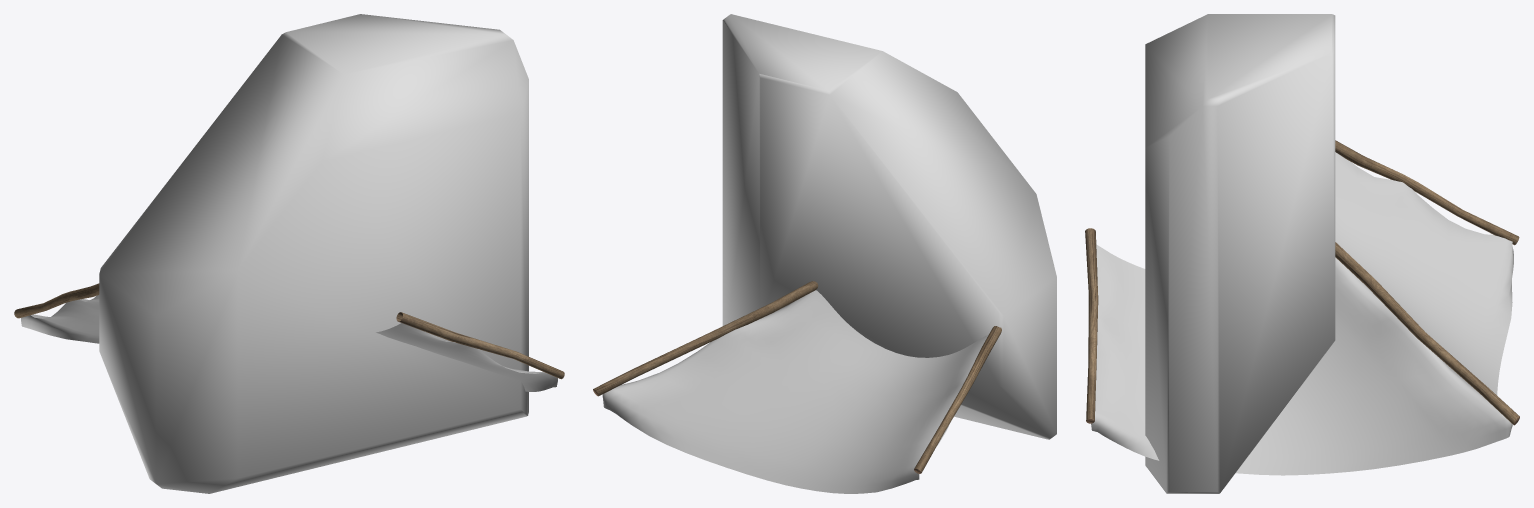
File: SM_Canopy_C.fbx
3 views of the same model, side by side, from view 1: azimuth 30°, elevation 25°; view 2: azimuth 150°, elevation 25°; view 3: azimuth 270°, elevation 25° (orthographic). The views are drawn at different scales.
Visible parts, largest first — view 1: SM_Canopy_C_ConvexHulls, SM_Canopy_C; view 2: SM_Canopy_C_ConvexHulls, SM_Canopy_C; view 3: SM_Canopy_C_ConvexHulls, SM_Canopy_C.
Boxes of the visible parts, x1=… form: SM_Canopy_C_ConvexHulls: x1=99, y1=14, x2=528, y2=493; SM_Canopy_C: x1=14, y1=283, x2=564, y2=391; SM_Canopy_C_ConvexHulls: x1=722, y1=14, x2=1056, y2=439; SM_Canopy_C: x1=593, y1=281, x2=1001, y2=493; SM_Canopy_C_ConvexHulls: x1=1145, y1=14, x2=1335, y2=493; SM_Canopy_C: x1=1085, y1=140, x2=1519, y2=475.
Bounding box in the file's own units: 2.78 × 2.76 × 2.75.
